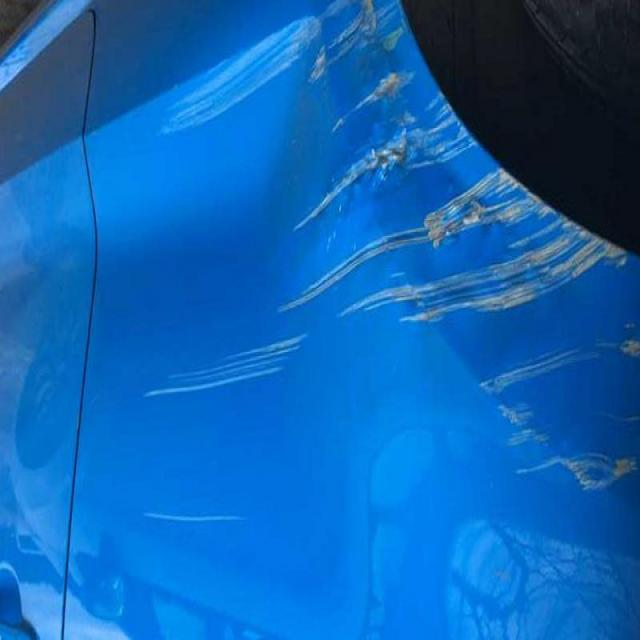scratch: (163, 46, 622, 338), (460, 326, 634, 517), (136, 326, 315, 416), (138, 498, 256, 541)
